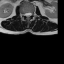CCS_normal: (27, 10, 29, 20)
LFS_normal: (31, 10, 33, 17)
LLS_normal: (29, 10, 31, 18)
RFS_normal: (22, 10, 24, 18)
RLS_normal: (24, 10, 27, 18)
